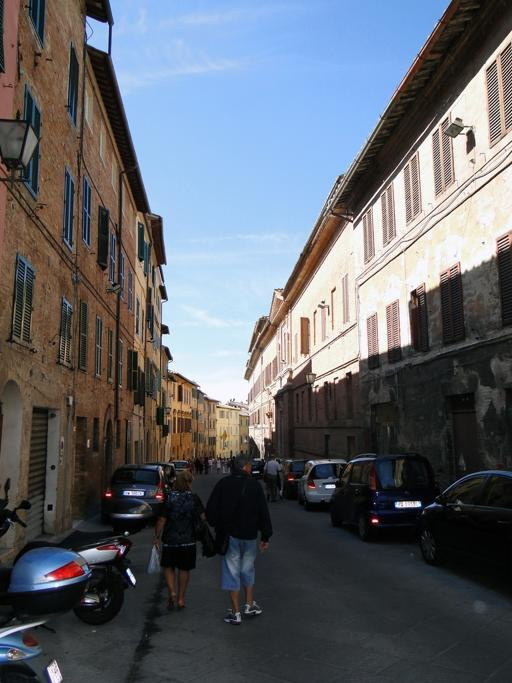non-vehicle: (0, 477, 153, 625), (0, 547, 99, 683)
